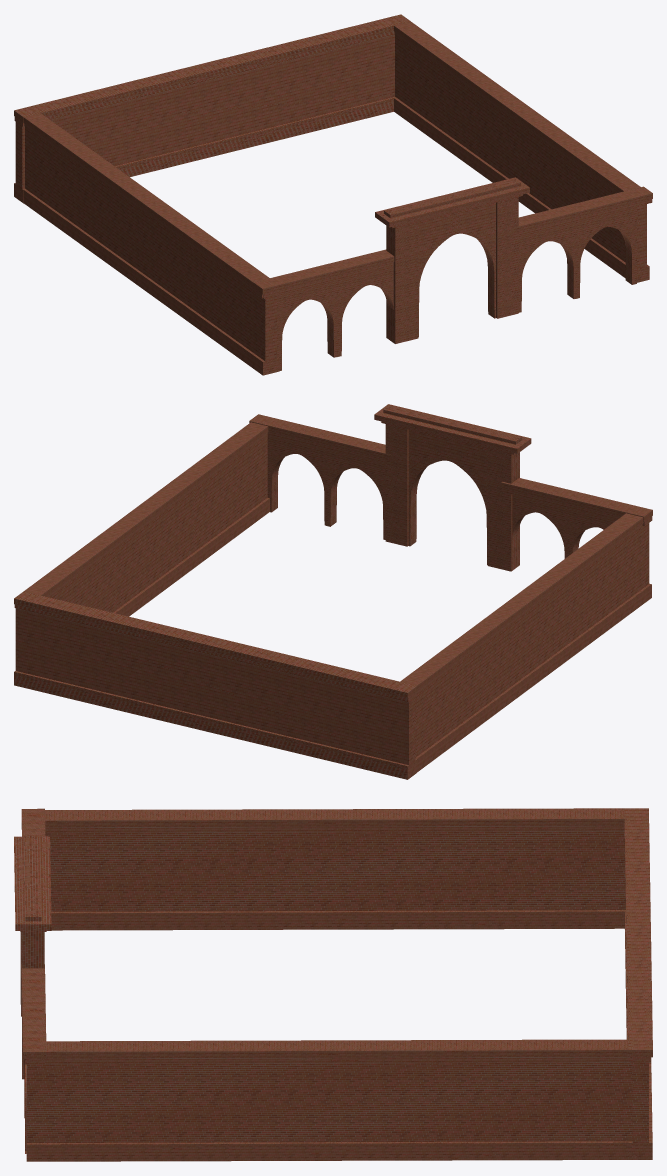
File: Fachada1.obj
3 views of the same model, one above another, from view 1: azimuth 30°, elevation 25°; view 2: azimuth 150°, elevation 25°; view 3: azimuth 270°, elevation 25° (orthographic). The views are drawn at different scales.
Visible parts, largest first — view 1: polySurface19; view 2: polySurface19; view 3: polySurface19.
Boxes of the visible parts, x1,y1,x2,y2 form: polySurface19: [14, 14, 652, 375]; polySurface19: [14, 404, 652, 779]; polySurface19: [14, 808, 652, 1161].
Bounding box in the file's own units: 21.08 × 6.62 × 23.25.
10 materials, 10 textured.
